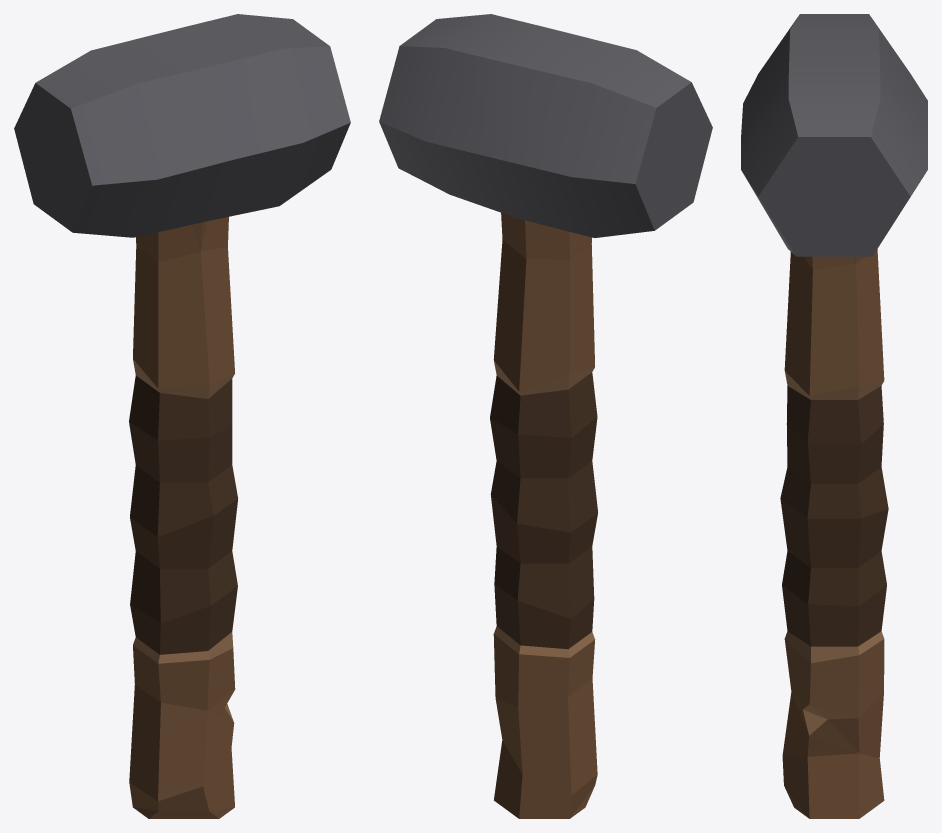
Rendered from Hammer.fbx.
3 renders of one model, left to right at view 1: azimuth 30°, elevation 25°; view 2: azimuth 150°, elevation 25°; view 3: azimuth 270°, elevation 25°, orthographic. The views are drawn at different scales.
Visible parts, largest first — view 1: Hammer; view 2: Hammer; view 3: Hammer.
Boxes of the visible parts, bbox=[...] form: Hammer: bbox=[14, 14, 350, 818]; Hammer: bbox=[379, 14, 712, 818]; Hammer: bbox=[741, 14, 927, 818].
Bounding box in the file's own units: 0.1501 × 0.42 × 0.0963.
1 material, 1 textured.
